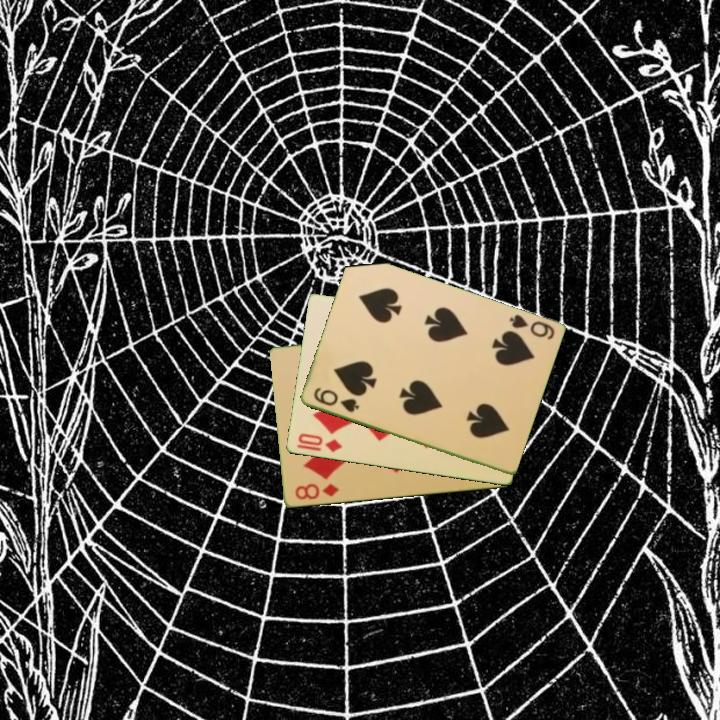10d: (293, 430, 345, 455)
6s: (505, 311, 557, 343), (310, 384, 362, 415)
8d: (291, 480, 342, 503)
